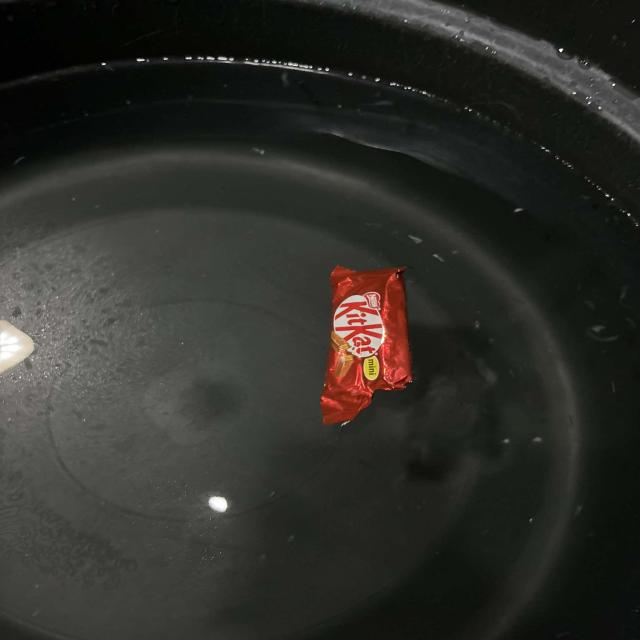Plastic Wrapper: (320, 266, 411, 424)
